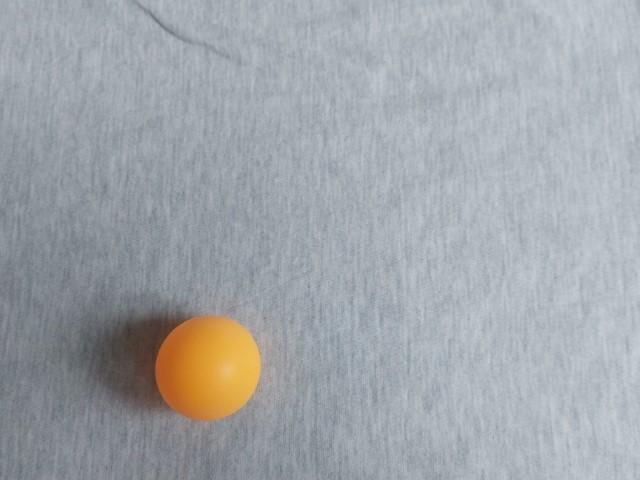oball: (369, 54, 489, 173)
